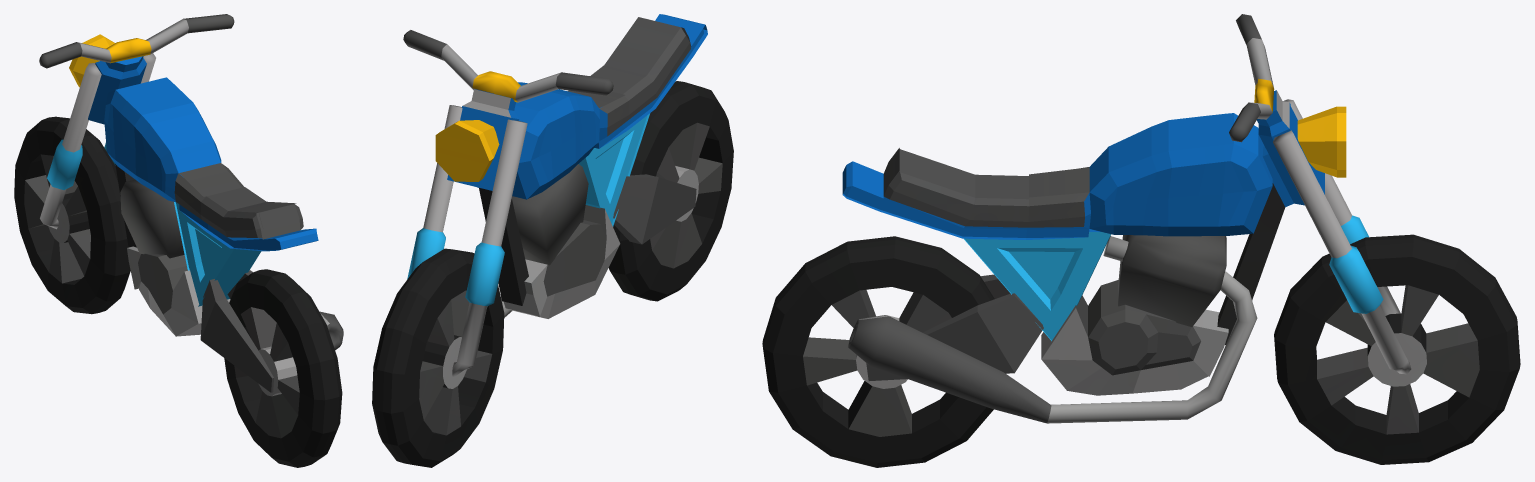
Rendered from BIKE_02.fbx.
3 renders of one model, left to right at view 1: azimuth 30°, elevation 25°; view 2: azimuth 150°, elevation 25°; view 3: azimuth 270°, elevation 25°, orthographic. The views are drawn at different scales.
Visible parts, largest first — view 1: Bike_Base, Front_Wheel.001, Front_Wheel, Cylinder.001, HandleParent, Cube.002, Cube.001, Cylinder.004, Cube.003, Headlight, Exhaust; view 2: Front_Wheel, Bike_Base, Front_Wheel.001, HandleParent, Cylinder.001, Cube.001, Cube.003, Cube.002, Cylinder.004, Headlight; view 3: Bike_Base, Front_Wheel, Front_Wheel.001, Exhaust, Cylinder.001, HandleParent, Cube.001, Cube.002, Cube.003, Headlight, Cylinder.004.
Part boxes in pixels (<box>): Bike_Base: <box>104,77,318,306</box>; Front_Wheel.001: <box>224,269,342,467</box>; Front_Wheel: <box>14,116,130,314</box>; Cylinder.001: <box>127,246,230,336</box>; HandleParent: <box>40,53,155,229</box>; Cube.002: <box>200,270,273,392</box>; Cube.001: <box>120,179,184,258</box>; Cylinder.004: <box>39,14,234,68</box>; Cube.003: <box>88,56,146,247</box>; Headlight: <box>69,34,114,87</box>; Exhaust: <box>320,311,343,350</box>; Front_Wheel: <box>372,248,504,467</box>; Bike_Base: <box>477,14,707,226</box>; Front_Wheel.001: <box>608,81,733,301</box>; HandleParent: <box>407,105,527,377</box>; Cylinder.001: <box>504,205,620,318</box>; Cube.001: <box>511,164,588,265</box>; Cube.003: <box>447,89,528,305</box>; Cube.002: <box>613,174,696,244</box>; Cylinder.004: <box>403,30,613,102</box>; Headlight: <box>435,120,499,181</box>; Bike_Base: <box>842,113,1272,341</box>; Front_Wheel: <box>1274,234,1520,464</box>; Front_Wheel.001: <box>762,236,994,467</box>; Exhaust: <box>848,236,1257,423</box>; Cylinder.001: <box>1041,280,1228,395</box>; HandleParent: <box>1273,99,1411,374</box>; Cube.001: <box>1118,235,1226,326</box>; Cube.002: <box>866,274,1043,381</box>; Cube.003: <box>1217,90,1324,344</box>; Headlight: <box>1297,106,1346,177</box>; Cylinder.004: <box>1229,14,1274,142</box>.
Bounding box in the file's own units: 190 × 309 × 538.
1 material, 1 textured.
